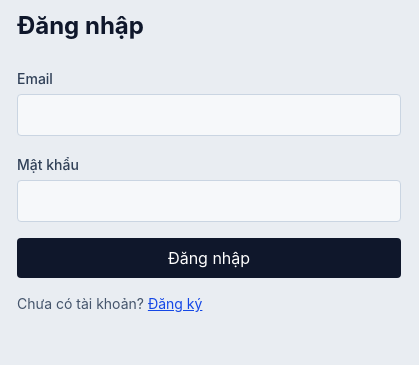
Test: Login › shows the server message on 401
Type "a@b.com" into the field labelled "Email" at (209, 115), box [17,94,401,136]
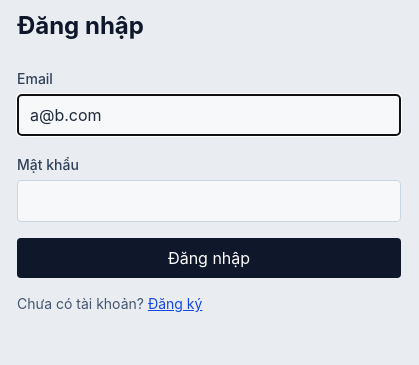
Type "password1" into the password field labelled "Mật khẩu" at (209, 201), box [17,180,401,222]
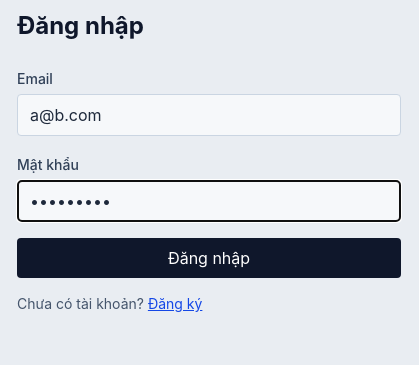
Click the button "Đăng nhập" at (209, 258), box [17,238,401,278]
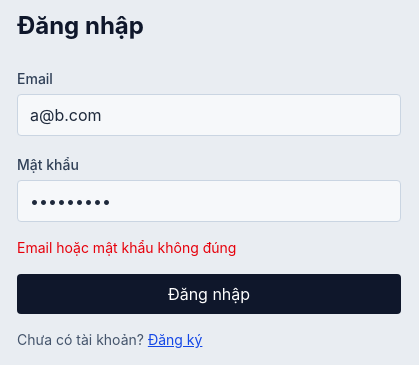
Check: the text "Email hoặc mật khẩu không đúng" is shown, box [17,239,236,256]
